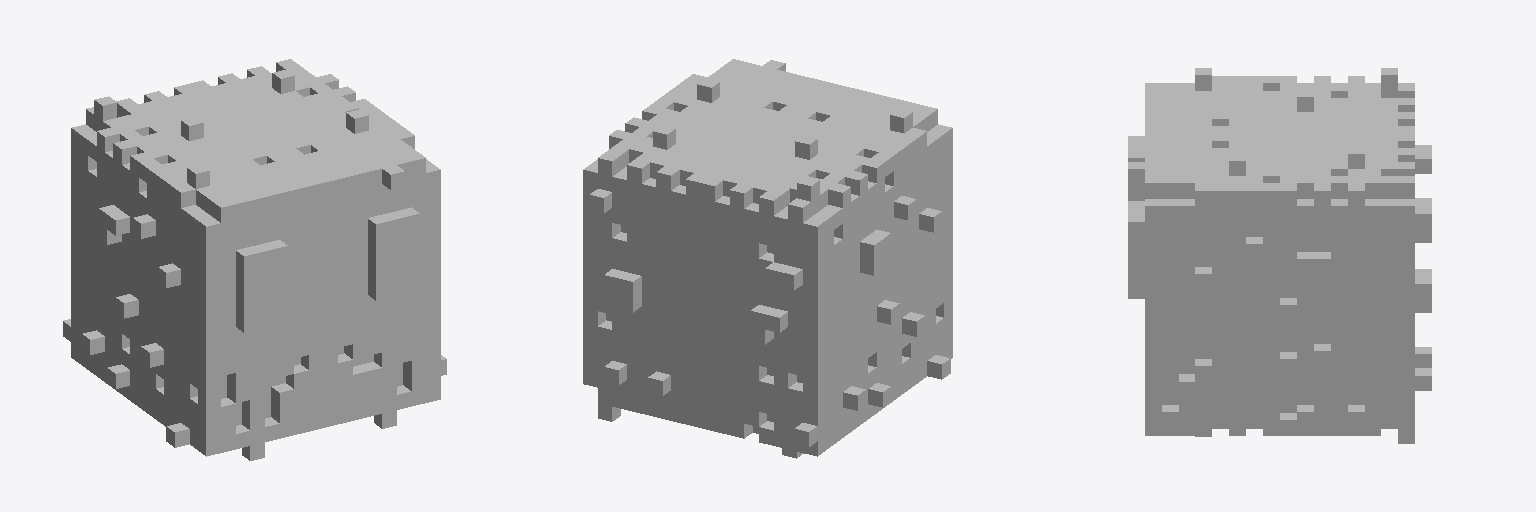
File: Pet0.obj
The picture shows the model from 3 angles: view 1: azimuth 30°, elevation 25°; view 2: azimuth 150°, elevation 25°; view 3: azimuth 270°, elevation 25°; orthographic projection.
Visible parts, largest first — view 1: object 1; view 2: object 1; view 3: object 1.
Part boxes in pixels (bbox=[...]): object 1: bbox=[63, 59, 446, 460]; object 1: bbox=[583, 59, 952, 458]; object 1: bbox=[1128, 68, 1431, 443].
Bounding box in the file's own units: 1.8 × 1.8 × 1.8.